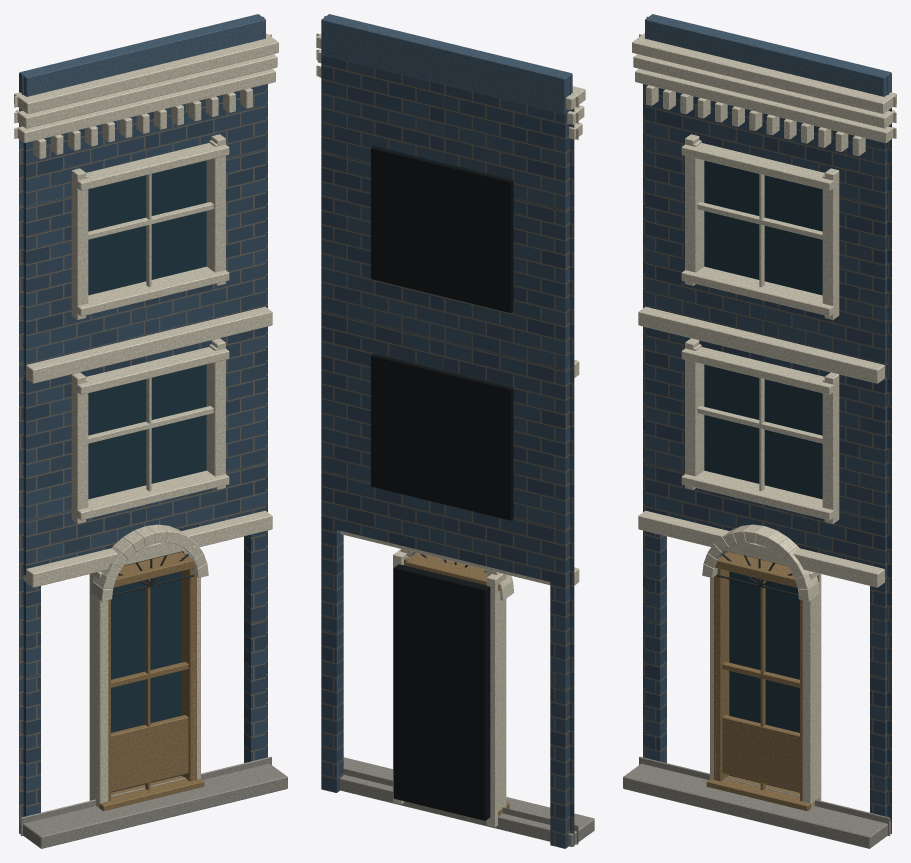
The model's file is OFFC11_lod1.glb.
3 views of the same model, side by side, from view 1: azimuth 30°, elevation 25°; view 2: azimuth 150°, elevation 25°; view 3: azimuth 330°, elevation 25° (orthographic).
Parts seen in each view (by area): view 1: OFFC11_FRONT_LOD1; view 2: OFFC11_FRONT_LOD1; view 3: OFFC11_FRONT_LOD1.
Part boxes in pixels (x1,y1,x2,y2): OFFC11_FRONT_LOD1: (14, 14, 287, 848); OFFC11_FRONT_LOD1: (316, 14, 594, 848); OFFC11_FRONT_LOD1: (623, 14, 896, 848).
Size of the model in its own units: 3.44 by 9.66 by 0.68.
9 materials, 7 textured.
